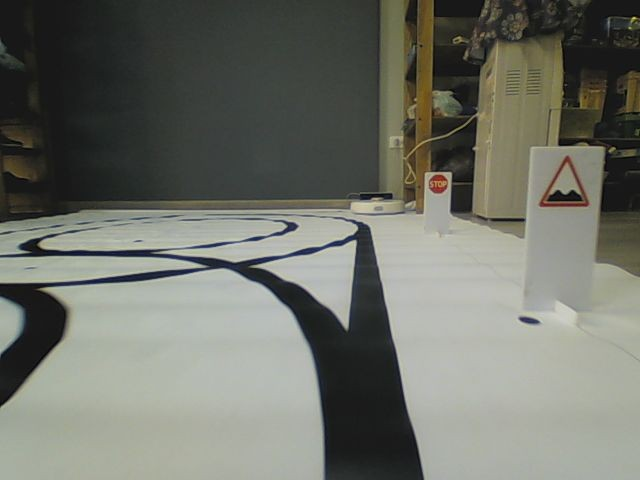Nerov: (537, 152, 591, 208)
Stop: (427, 173, 449, 196)
